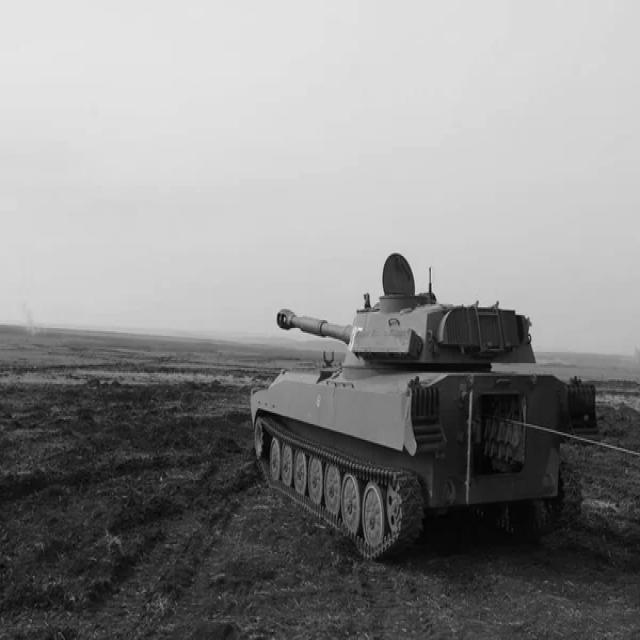Tank: (241, 246, 623, 566)
